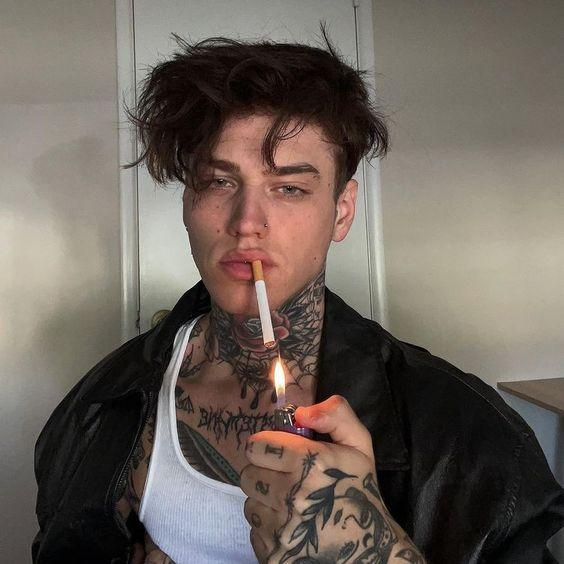cigarette: (251, 260, 276, 349)
